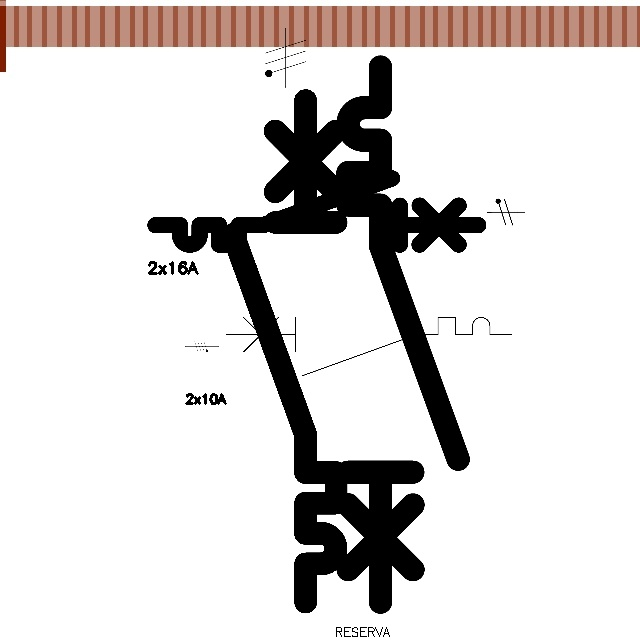interruptor_termomagnetico: (334, 53, 472, 616), (220, 87, 349, 615), (147, 170, 487, 253), (218, 310, 518, 383)
